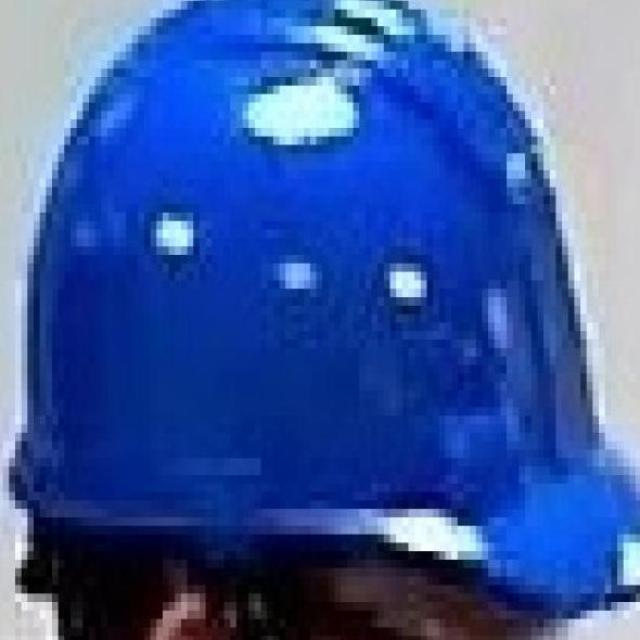blue helmet: (1, 1, 640, 625)
